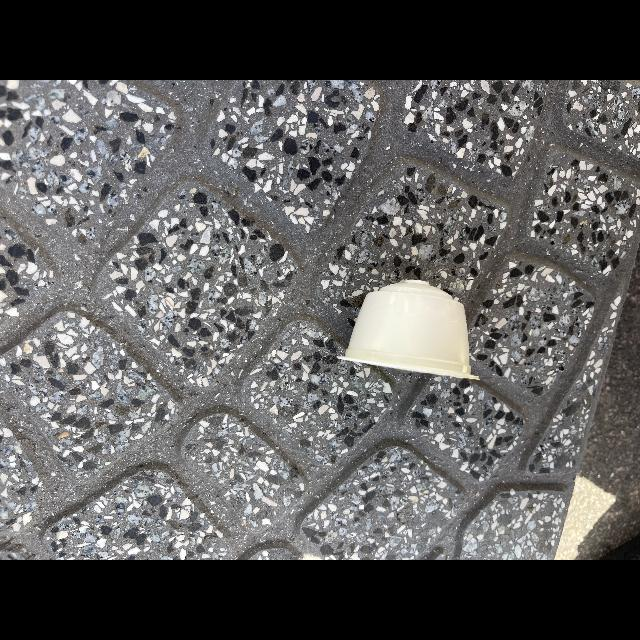intact_capsule: (334, 264, 492, 394)
